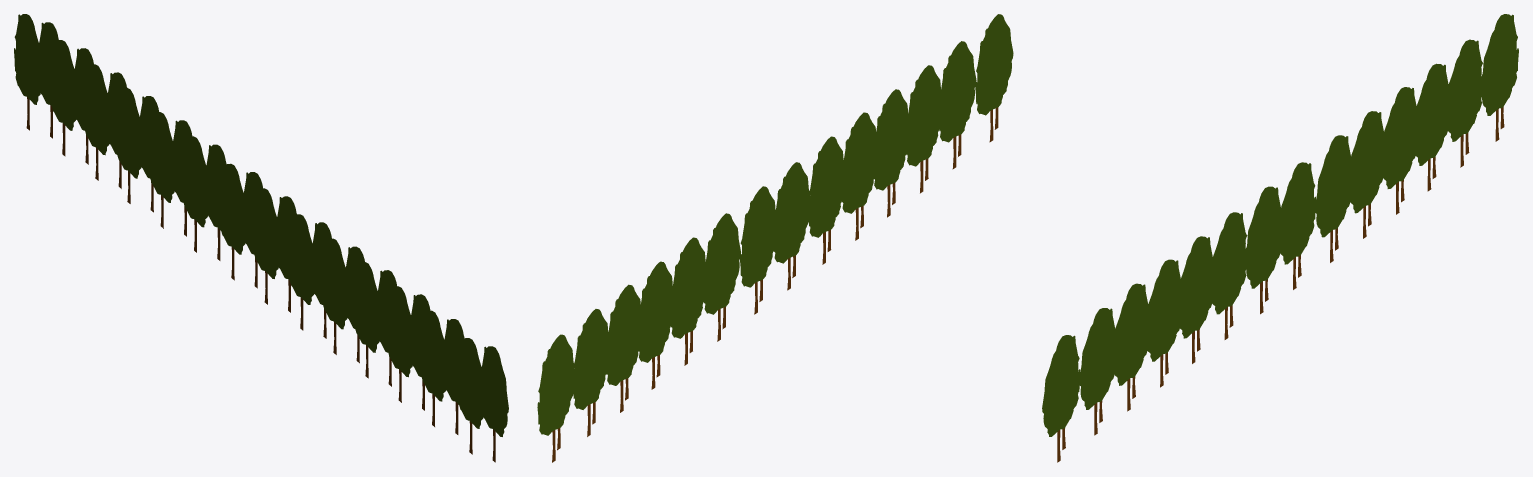
File: Bomen.fbx
The picture shows the model from 3 angles, left to right: view 1: azimuth 30°, elevation 25°; view 2: azimuth 150°, elevation 25°; view 3: azimuth 330°, elevation 25°; orthographic projection.
Visible parts, largest first — view 1: Group27, Group18, Group12, Group10, Group22, Group28, Group11, Group14, Group16, Group23, Group24, Group1 (+16 smaller); view 2: Group14, Group16, Group1, Group18, Group9, Group11, Group12, Group23, Group28, Group24, Group27, Group13 (+16 smaller); view 3: Group7, Group19, Group21, Group17, Group3, Group5, Group4, Group2, Group15, Group20, Group8, Group25 (+16 smaller).
Part boxes in pixels (<box>): Group27: <box>287,214,316,330</box>; Group18: <box>49,40,78,156</box>; Group12: <box>320,238,349,354</box>; Group10: <box>114,87,143,203</box>; Group22: <box>218,163,247,280</box>; Group28: <box>456,338,485,454</box>; Group11: <box>352,262,381,378</box>; Group14: <box>82,64,111,180</box>; Group16: <box>14,14,42,130</box>; Group23: <box>252,188,280,304</box>; Group24: <box>148,112,176,228</box>; Group1: <box>386,286,414,402</box>; Group14: <box>605,297,638,412</box>; Group16: <box>537,347,570,462</box>; Group1: <box>905,77,938,193</box>; Group18: <box>572,321,605,436</box>; Group9: <box>938,53,971,169</box>; Group11: <box>873,101,905,217</box>; Group12: <box>840,125,873,240</box>; Group23: <box>773,174,805,290</box>; Group28: <box>975,26,1008,142</box>; Group24: <box>670,250,702,365</box>; Group27: <box>808,149,840,264</box>; Group13: <box>703,226,735,341</box>; Group7: <box>1445,52,1478,167</box>; Group19: <box>1112,296,1145,411</box>; Group21: <box>1042,347,1075,462</box>; Group17: <box>1079,320,1112,435</box>; Group3: <box>1348,123,1381,238</box>; Group5: <box>1145,272,1178,387</box>; Group4: <box>1480,26,1513,141</box>; Group2: <box>1245,199,1277,314</box>; Group15: <box>1315,147,1347,262</box>; Group20: <box>1278,175,1310,289</box>; Group8: <box>1381,99,1413,214</box>; Group25: <box>1413,76,1445,191</box>.
Size of the model in its own units: 811 by 7847 by 60345.
